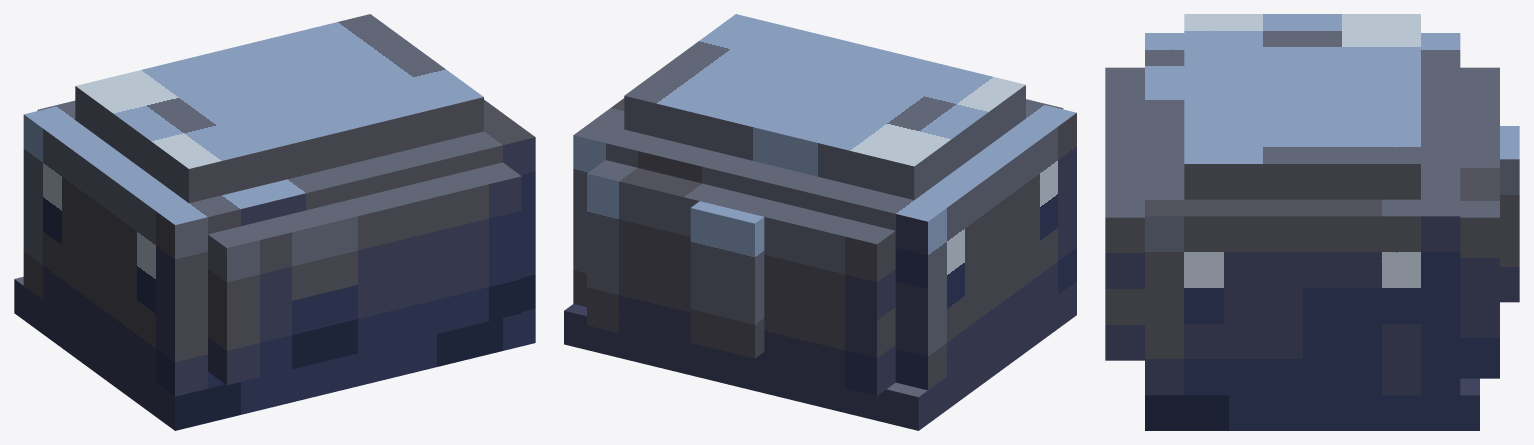
File: steel_chestplate.glb
3 views of the same model, side by side, from view 1: azimuth 30°, elevation 25°; view 2: azimuth 150°, elevation 25°; view 3: azimuth 270°, elevation 25° (orthographic). The views are drawn at different scales.
Parts seen in each view (by area): view 1: shell, back_plate, gorget, lame_1; view 2: shell, gorget, front_plate, lame_1, ridge; view 3: shell, gorget, front_plate, lame_1, back_plate, ridge.
Part boxes in pixels (bbox=[...]): shell: bbox=[23, 99, 535, 396]; back_plate: bbox=[208, 162, 521, 385]; gorget: bbox=[75, 14, 483, 203]; lame_1: bbox=[14, 276, 535, 430]; shell: bbox=[573, 98, 1076, 390]; gorget: bbox=[624, 14, 1025, 200]; front_plate: bbox=[587, 160, 895, 395]; lame_1: bbox=[564, 281, 1076, 430]; ridge: bbox=[690, 201, 764, 358]; shell: bbox=[1145, 33, 1460, 395]; gorget: bbox=[1184, 14, 1420, 199]; front_plate: bbox=[1460, 67, 1499, 378]; lame_1: bbox=[1145, 378, 1479, 430]; back_plate: bbox=[1105, 67, 1144, 360]; ridge: bbox=[1500, 126, 1519, 302].
Bounding box in the file's own units: 0.3438 × 0.2188 × 0.3281.
1 material, 1 textured.
